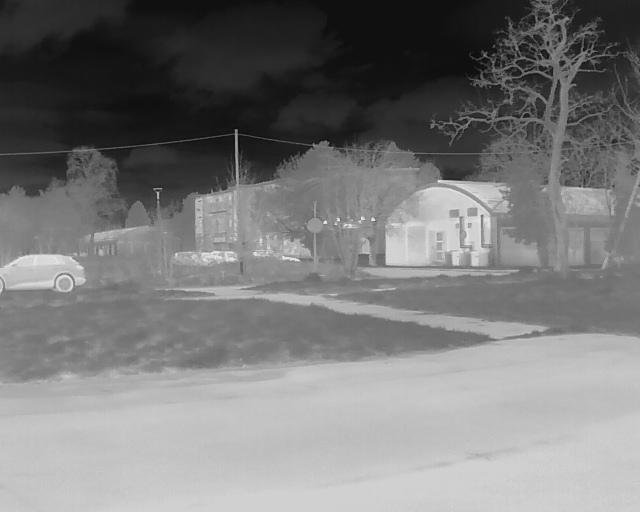drone: (317, 201, 393, 258)
